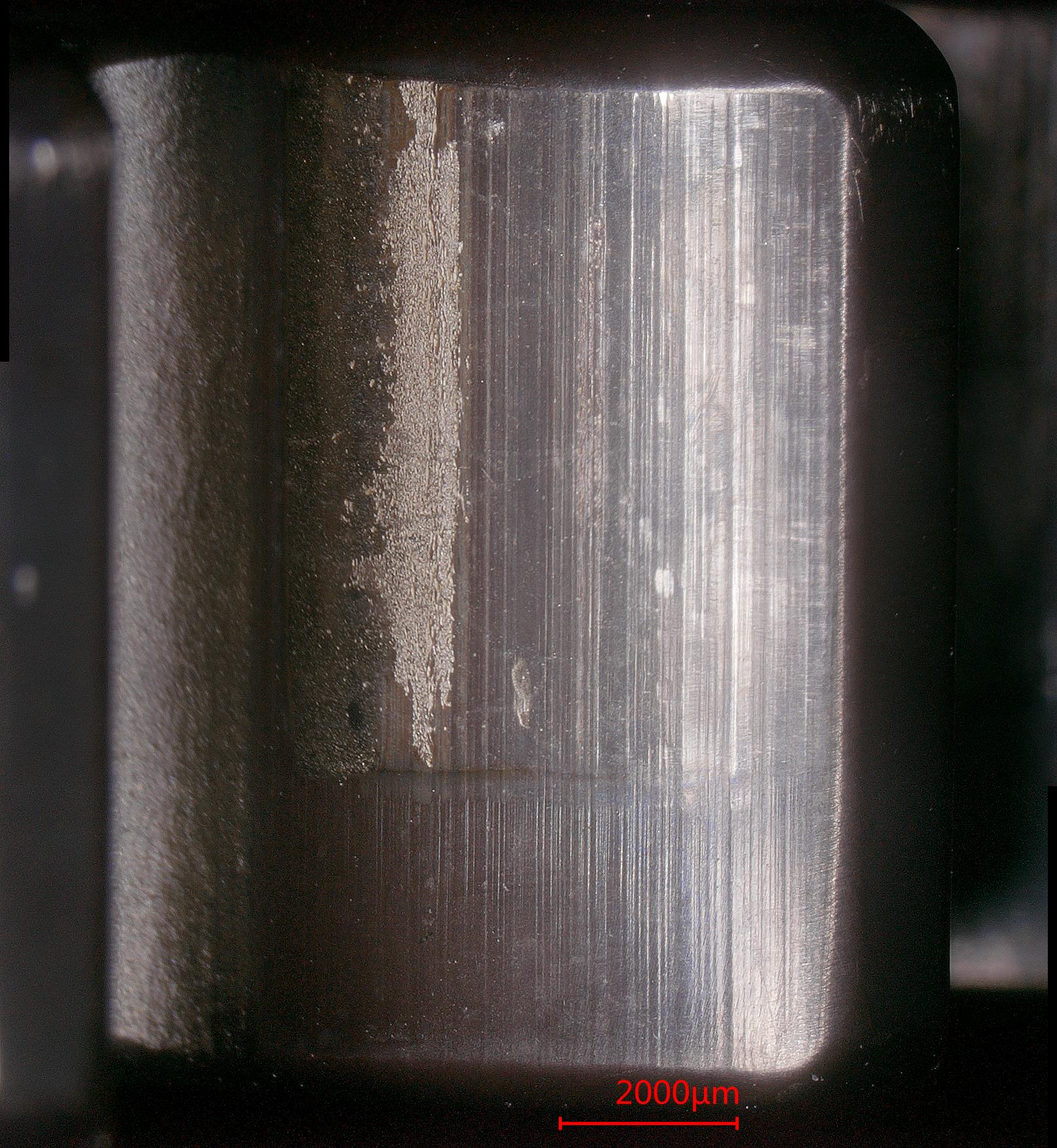Abrasion: (260, 75, 851, 1082)
